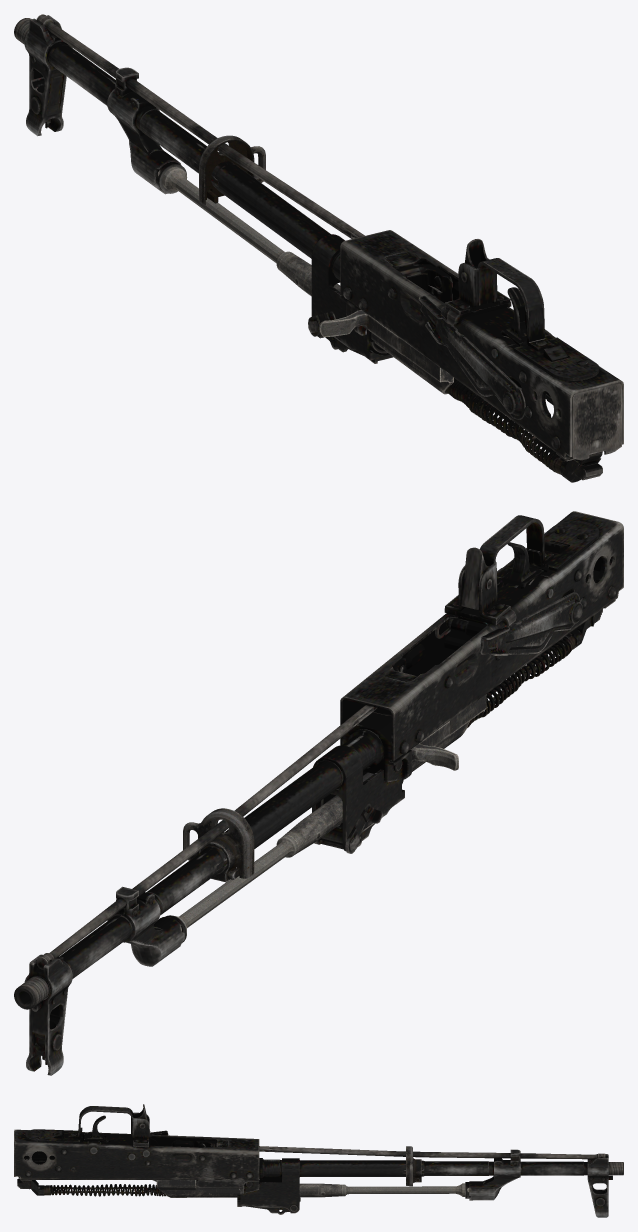
The picture shows the model from 3 angles, top to bottom: view 1: azimuth 30°, elevation 25°; view 2: azimuth 150°, elevation 25°; view 3: azimuth 270°, elevation 25°; orthographic projection. The views are drawn at different scales.
Parts seen in each view (by area): view 1: TW_59ff346386f77477562ff5e2_PZ_Import; view 2: TW_59ff346386f77477562ff5e2_PZ_Import; view 3: TW_59ff346386f77477562ff5e2_PZ_Import.
Part boxes in pixels (x1=…): TW_59ff346386f77477562ff5e2_PZ_Import: x1=14, y1=14, x2=623, y2=482; TW_59ff346386f77477562ff5e2_PZ_Import: x1=14, y1=511, x2=623, y2=1075; TW_59ff346386f77477562ff5e2_PZ_Import: x1=14, y1=1104, x2=623, y2=1217.
Size of the model in its own units: 0.0409 by 0.3687 by 0.0736.
Materials: 1 (1 with a texture image).
